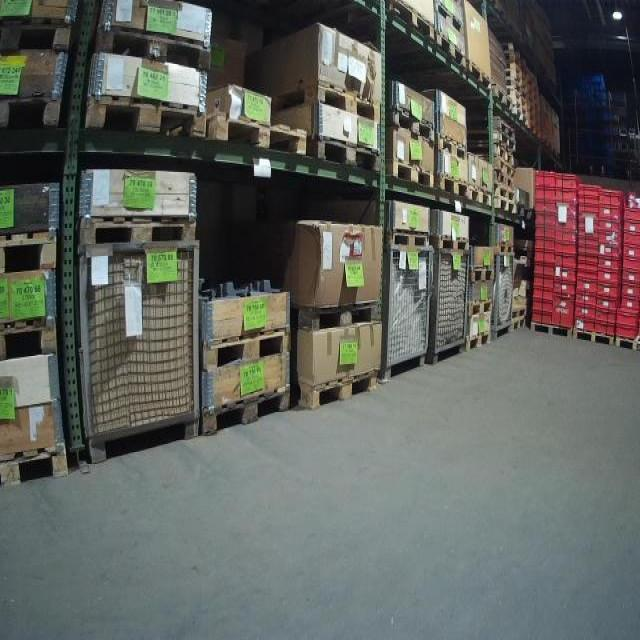pallet: (93, 23, 213, 75), (84, 93, 207, 139), (262, 82, 384, 125), (198, 387, 295, 440), (206, 111, 311, 159), (78, 213, 200, 250), (292, 367, 384, 412), (201, 326, 293, 370), (0, 439, 76, 490), (289, 297, 390, 335), (306, 132, 383, 172), (0, 315, 64, 363), (0, 229, 61, 277), (0, 14, 73, 54), (385, 0, 437, 46), (1, 94, 64, 130), (383, 105, 438, 146), (384, 156, 437, 189), (434, 28, 467, 69), (436, 130, 469, 163), (433, 0, 464, 35), (434, 170, 471, 199), (571, 327, 614, 348), (389, 230, 432, 250), (529, 321, 574, 340), (430, 234, 471, 254), (465, 60, 491, 91), (489, 84, 514, 113), (465, 300, 494, 320), (465, 329, 490, 352), (469, 265, 496, 285), (468, 186, 492, 208), (613, 335, 640, 351), (510, 316, 527, 333), (515, 204, 532, 221), (499, 200, 517, 216), (497, 165, 515, 179), (497, 243, 516, 256), (497, 190, 517, 202), (510, 304, 527, 318), (501, 140, 518, 154), (514, 101, 528, 117), (511, 80, 527, 94), (497, 178, 516, 189), (512, 92, 526, 106), (499, 153, 514, 165), (517, 113, 530, 126), (500, 127, 512, 140)
small_load_carrier: (552, 291, 575, 328), (616, 321, 638, 339), (599, 188, 622, 204), (533, 171, 556, 187), (598, 216, 622, 231), (618, 307, 639, 324), (554, 283, 576, 299), (573, 233, 600, 246), (575, 303, 594, 321), (555, 228, 575, 245), (558, 215, 578, 232), (598, 242, 622, 256), (598, 268, 622, 282), (594, 308, 618, 322), (534, 263, 555, 279), (557, 172, 580, 186), (554, 253, 574, 269), (555, 267, 576, 282), (535, 212, 556, 227), (598, 204, 622, 217), (596, 282, 622, 294), (554, 243, 578, 256), (576, 279, 598, 293), (534, 187, 556, 201), (599, 256, 622, 269), (594, 322, 612, 338), (531, 312, 555, 324), (596, 294, 618, 307), (576, 252, 598, 265), (620, 296, 640, 310), (620, 270, 640, 284), (555, 191, 578, 203), (535, 237, 556, 250), (533, 288, 554, 301), (622, 246, 640, 261), (598, 231, 622, 242), (535, 251, 555, 264), (623, 234, 640, 249), (578, 183, 601, 194), (532, 301, 555, 312), (621, 221, 639, 235), (620, 285, 639, 298), (577, 194, 601, 204), (576, 293, 596, 305), (622, 259, 640, 272), (535, 202, 557, 212), (558, 202, 576, 214), (577, 218, 598, 228), (622, 209, 639, 221), (575, 321, 595, 331), (535, 227, 555, 237), (534, 279, 554, 289), (576, 270, 598, 279), (576, 246, 600, 253), (577, 204, 599, 211), (577, 211, 599, 218), (573, 228, 598, 233), (577, 265, 598, 270)
stillage: (74, 235, 206, 466), (368, 233, 438, 384), (428, 240, 479, 369), (486, 243, 521, 345)
